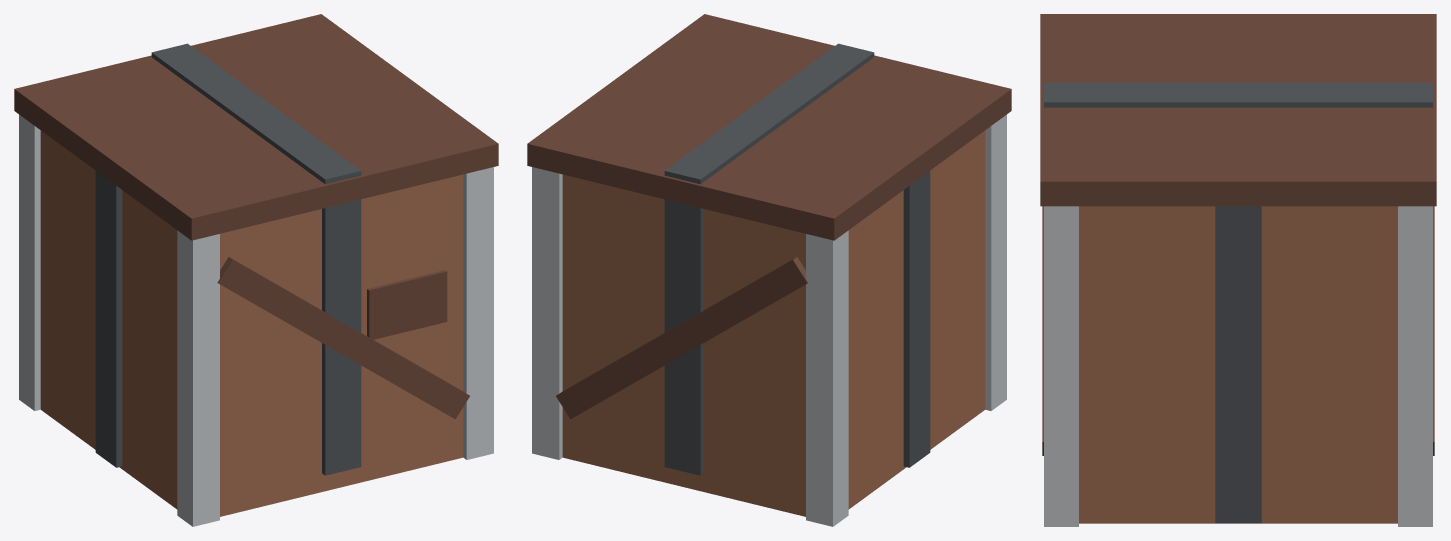
File: Crate.fbx
The picture shows the model from 3 angles, left to right: view 1: azimuth 30°, elevation 25°; view 2: azimuth 150°, elevation 25°; view 3: azimuth 270°, elevation 25°; orthographic projection. The views are drawn at different scales.
Visible parts, largest first — view 1: Crate; view 2: Crate; view 3: Crate.
Part boxes in pixels (x1,y1,x2,y2): Crate: (14,14,498,526); Crate: (527,14,1011,526); Crate: (1040,14,1436,526).
Size of the model in its own units: 1.02 by 1 by 1.02.
